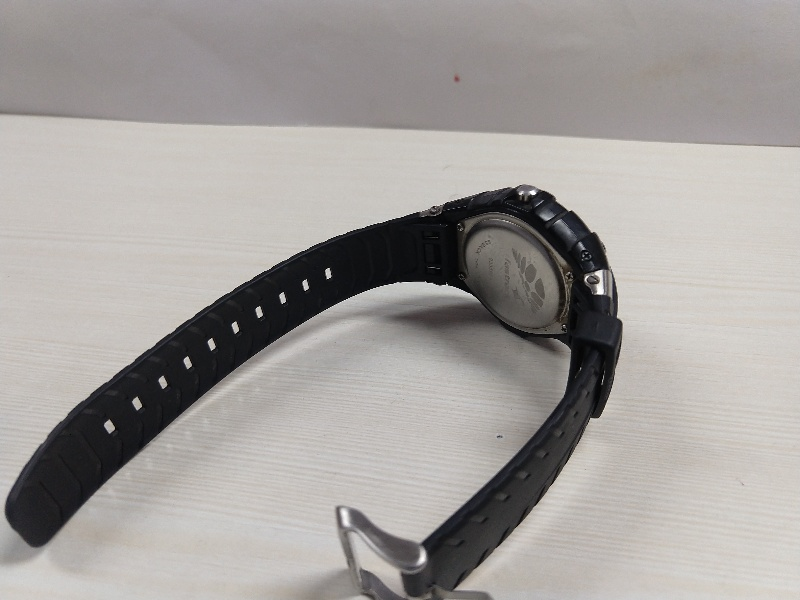watch: (5, 181, 630, 593)
